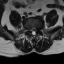CCS_normal: (33, 29, 34, 36)
LFS_severe_stenosis: (36, 28, 38, 33)
LLS_stenosis: (34, 29, 36, 34)
RFS_stenosis: (29, 28, 31, 32)
RLS_normal: (31, 29, 33, 35)
